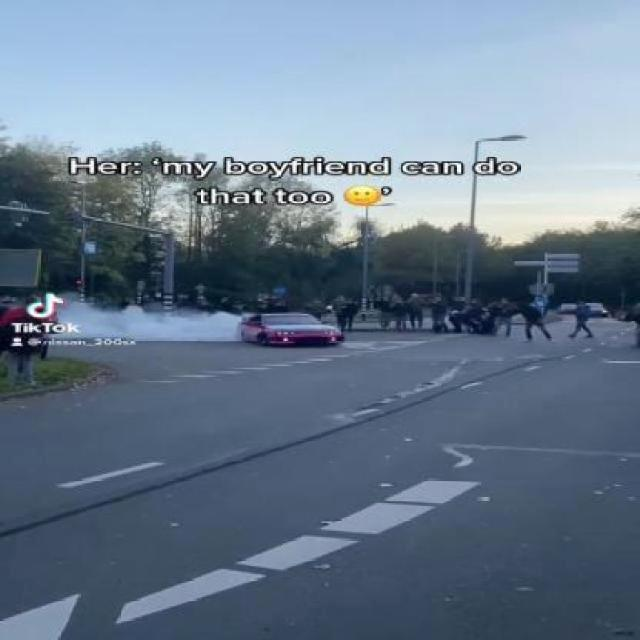car: (236, 310, 350, 348)
